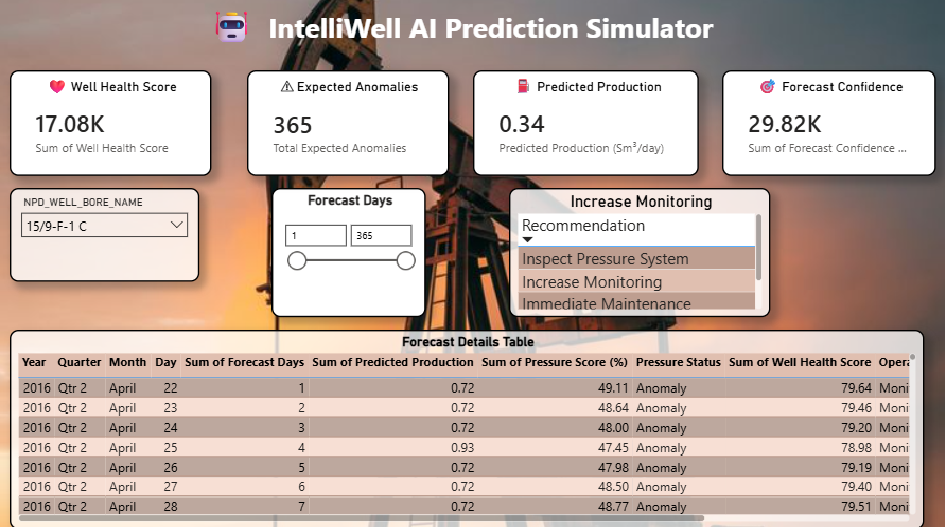

The dashboard page shown, as its layout file describes it:
{"tool":"powerbi","page":{"name":"Page 7","canvas":[1280,720],"ordinal":6},"visuals":[{"type":"textbox","box":[208,0,832,80],"z":0},{"type":"slicer","title":"Forecast Days","fields":{"Values":["future_forecast.Forecast Days"]},"box":[368,256,208,176],"z":1000},{"type":"slicer","fields":{"Values":["future_forecast.NPD_WELL_BORE_NAME"]},"box":[16,256,256,128],"z":2000},{"type":"cardVisual","title":"⛽ Predicted Production","fields":{"Data":["Avg(future_forecast.Predicted Production)"]},"box":[640,96,304,144],"z":3000},{"type":"cardVisual","title":"❤️ Well Health Score","fields":{"Data":["Sum(future_forecast.Well Health Score)"]},"box":[16,96,272,144],"z":4000},{"type":"cardVisual","title":"⚠ Expected Anomalies","fields":{"Data":["IntelliWell_Final_Report.Total Expected Anomalies"]},"box":[336,96,272,144],"z":5000},{"type":"cardVisual","title":"🎯 Forecast Confidence","fields":{"Data":["Sum(future_forecast.Forecast Confidence (%))"]},"box":[976,96,288,144],"z":6000},{"type":"tableEx","title":"Forecast Details Table","fields":{"Values":["future_forecast.Forecast Date.Variation.Date Hierarchy.Year","future_forecast.Forecast Date.Variation.Date Hierarchy.Quarter","future_forecast.Forecast Date.Variation.Date Hierarchy.Month","future_forecast.Forecast Date.Variation.Date Hierarchy.Day","Sum(future_forecast.Forecast Days)","Sum(future_forecast.Predicted Production)","Sum(future_forecast.Pressure Score (%))","future_forecast.Pressure Status","Sum(future_forecast.Well Health Score)","future_forecast.Operational Status","Sum(future_forecast.Forecast Confidence (%))"]},"box":[16,448,1232,272],"z":7000},{"type":"tableEx","title":"Increase Monitoring","fields":{"Values":["future_forecast.Recommendation"]},"box":[688,256,352,176],"z":8000}]}

Visuals, with their boxes in screenshot pixels (x1, y1, x2, y2), scaled from the page's 1280x720 canvas onto the 945x527 screenshot:
textbox: [154, 0, 768, 59]
"Forecast Days" slicer: [272, 187, 425, 316]
slicer - future_forecast.NPD_WELL_BORE_NAME: [12, 187, 201, 281]
"⛽ Predicted Production" cardVisual: [472, 70, 697, 176]
"❤️ Well Health Score" cardVisual: [12, 70, 213, 176]
"⚠ Expected Anomalies" cardVisual: [248, 70, 449, 176]
"🎯 Forecast Confidence" cardVisual: [721, 70, 933, 176]
"Forecast Details Table" tableEx: [12, 328, 921, 526]
"Increase Monitoring" tableEx: [508, 187, 768, 316]
